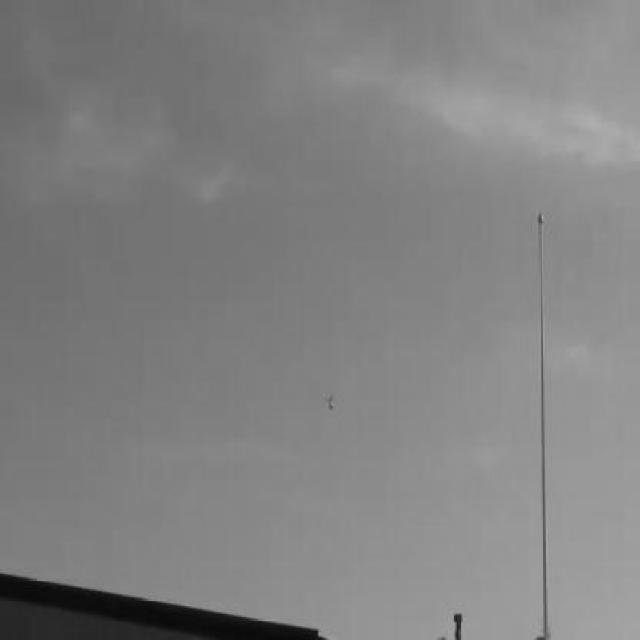helikopter: (328, 394, 336, 412)
